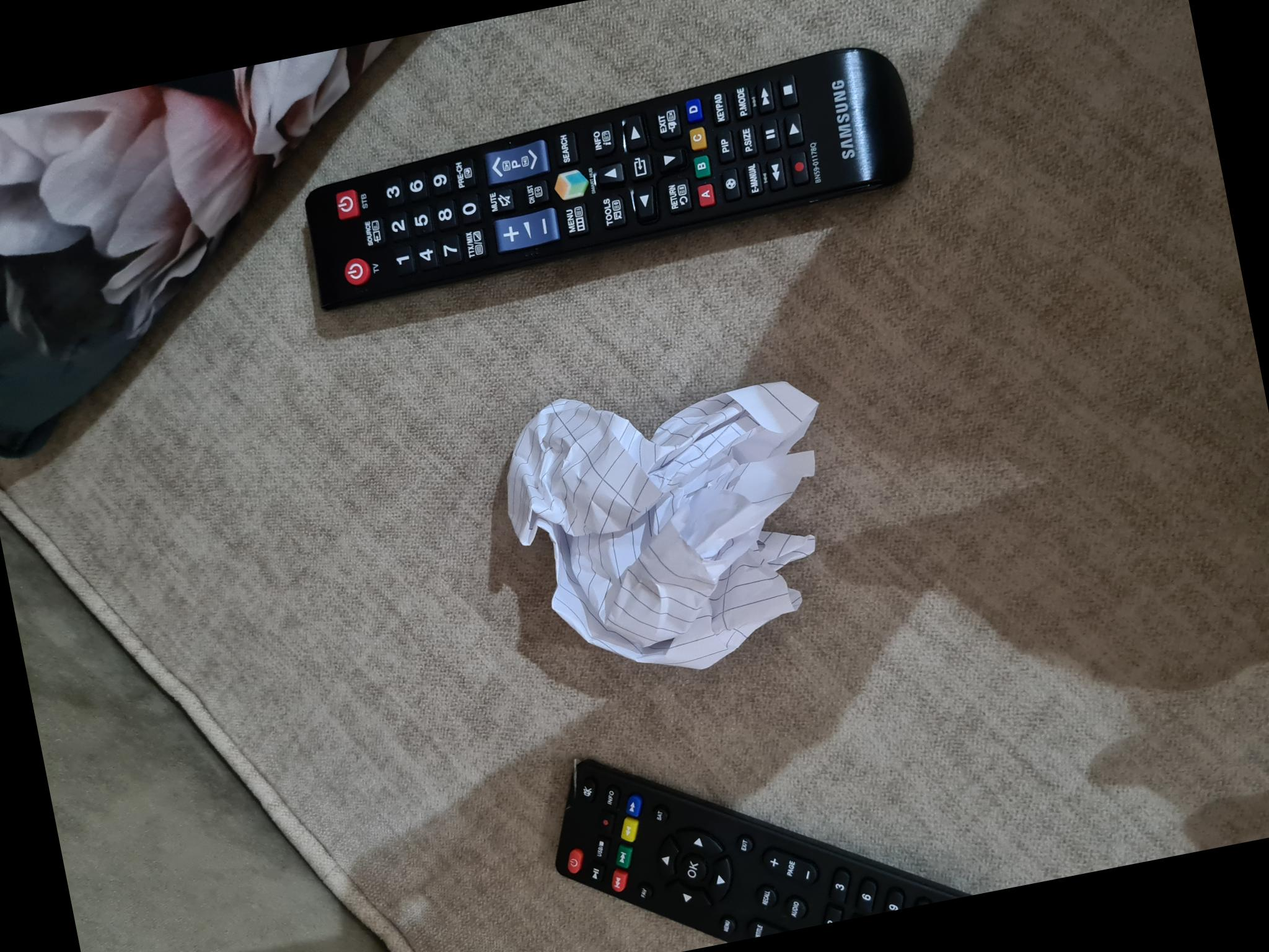Kertas: (317, 536, 602, 845)
